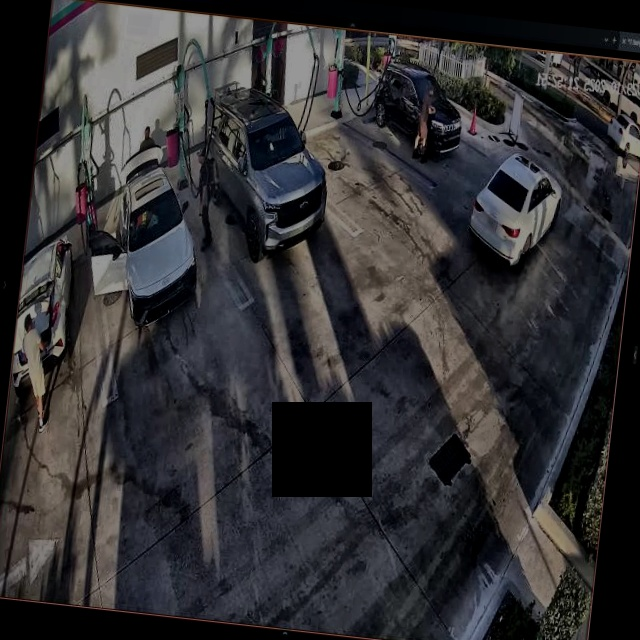Car: (194, 82, 338, 263), (88, 149, 206, 326), (466, 147, 563, 270), (370, 62, 467, 153)
